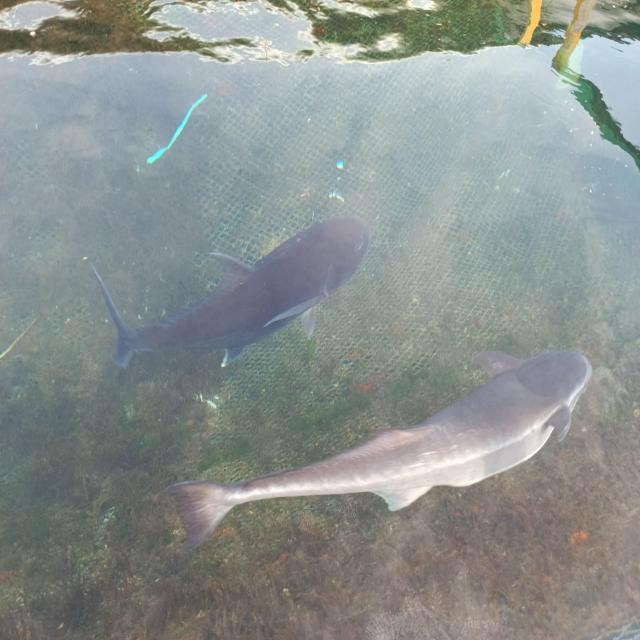ikan: (161, 347, 593, 553), (90, 213, 370, 370)
